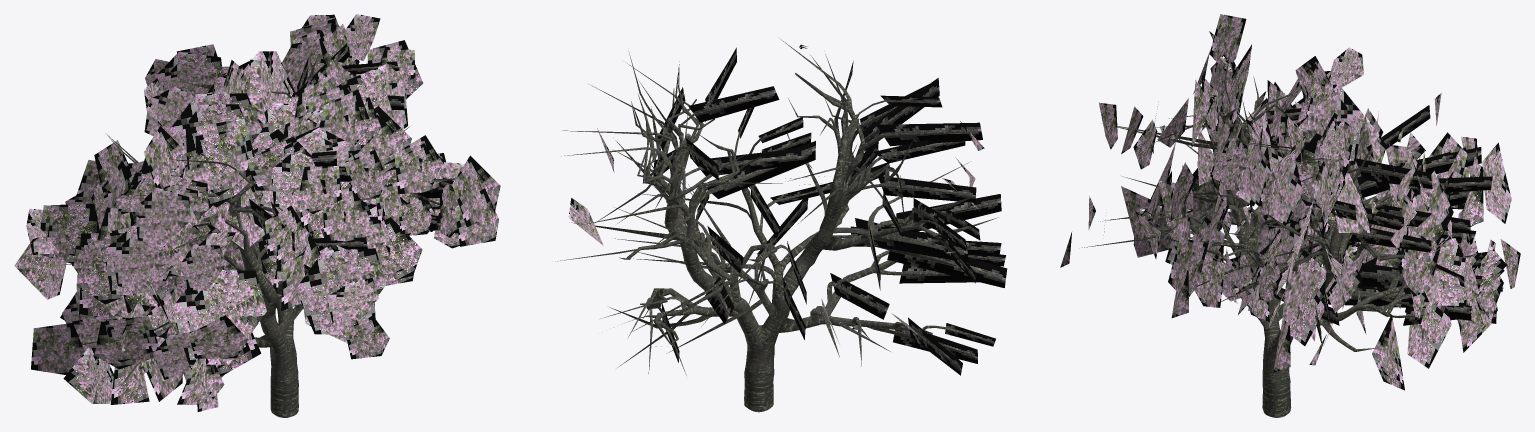
File: Cherry_Blossoms_Low-transformed.glb
3 renders of one model, left to right at view 1: azimuth 30°, elevation 25°; view 2: azimuth 150°, elevation 25°; view 3: azimuth 270°, elevation 25°, orthographic. The views are drawn at different scales.
Visible parts, largest first — view 1: Cherry_Blossoms_Low_LOD0; view 2: Cherry_Blossoms_Low_LOD0; view 3: Cherry_Blossoms_Low_LOD0.
Part boxes in pixels (x1,y1,x2,y2): Cherry_Blossoms_Low_LOD0: (14, 14, 500, 417); Cherry_Blossoms_Low_LOD0: (555, 37, 1007, 412); Cherry_Blossoms_Low_LOD0: (1060, 14, 1520, 417).
Size of the model in its own units: 11.15 by 8.5 by 10.4.
Materials: 2 (2 with a texture image).
